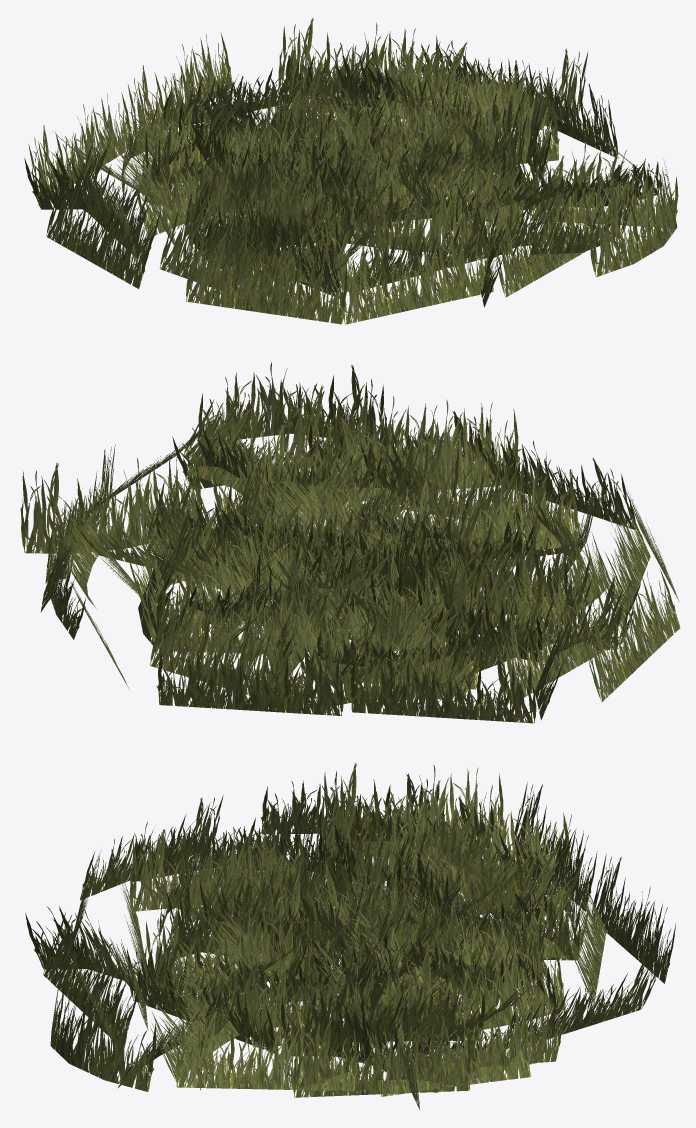
Rendered from Grass.FBX.
The picture shows the model from 3 angles, top to bottom: view 1: azimuth 30°, elevation 25°; view 2: azimuth 150°, elevation 25°; view 3: azimuth 270°, elevation 25°; orthographic projection. The views are drawn at different scales.
Parts seen in each view (by area): view 1: Grass_C_003; view 2: Grass_C_003; view 3: Grass_C_003.
Boxes of the visible parts, x1=… form: Grass_C_003: x1=24, y1=18, x2=678, y2=324; Grass_C_003: x1=20, y1=362, x2=680, y2=723; Grass_C_003: x1=25, y1=763, x2=675, y2=1109.
Size of the model in its own units: 1.62 by 0.275 by 1.59.
